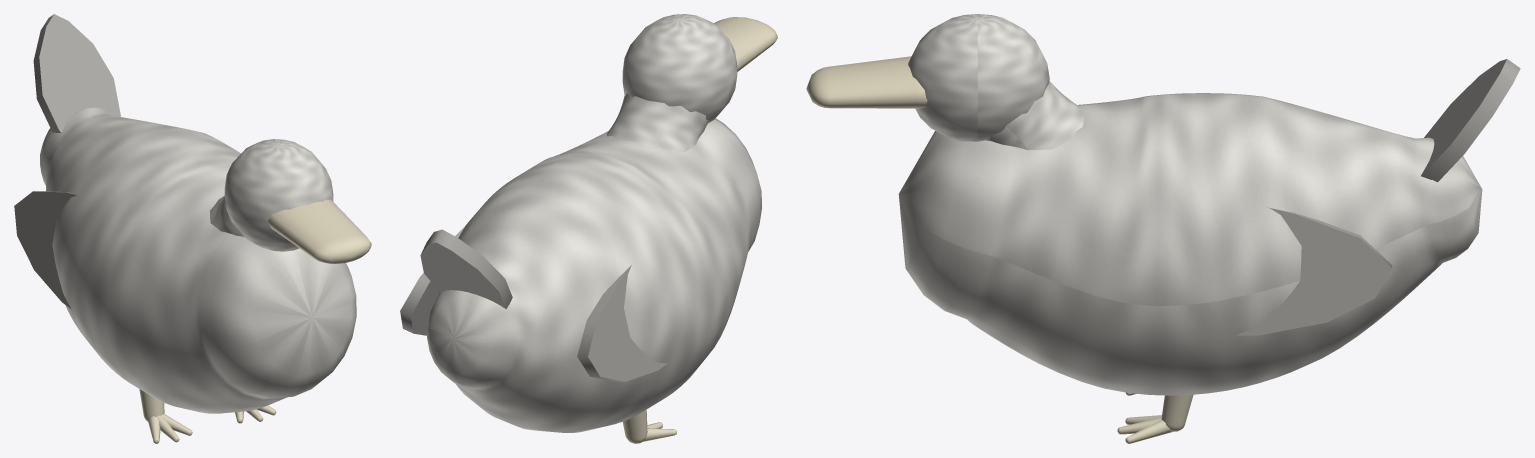
File: farm-and-working-animals-hd-duck-3fc7764a__29201.glb
The picture shows the model from 3 angles, left to right: view 1: azimuth 30°, elevation 25°; view 2: azimuth 150°, elevation 25°; view 3: azimuth 270°, elevation 25°; orthographic projection. The views are drawn at different scales.
Parts seen in each view (by area): view 1: duck; view 2: duck; view 3: duck.
Part boxes in pixels (left/top/right/bottom): duck: left=14, top=14, right=371, bottom=443; duck: left=400, top=14, right=777, bottom=443; duck: left=806, top=14, right=1520, bottom=443.
Size of the model in its own units: 0.253 by 0.3784 by 0.627.
4 materials, 3 textured.
